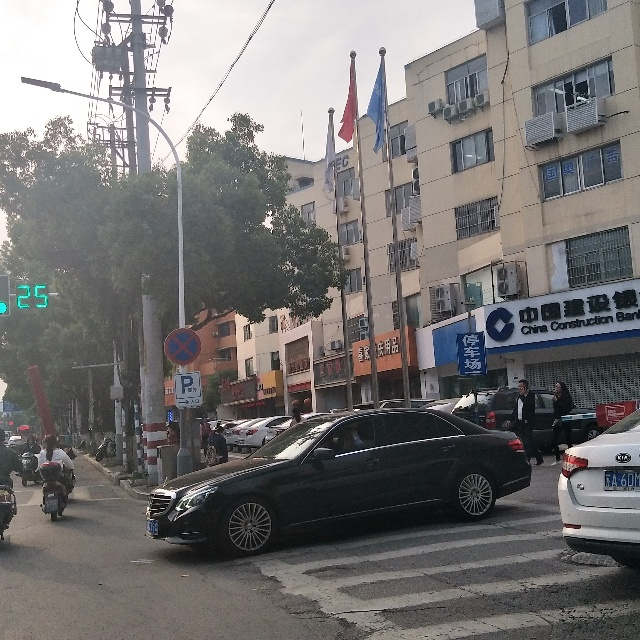stop: (164, 328, 201, 365)
